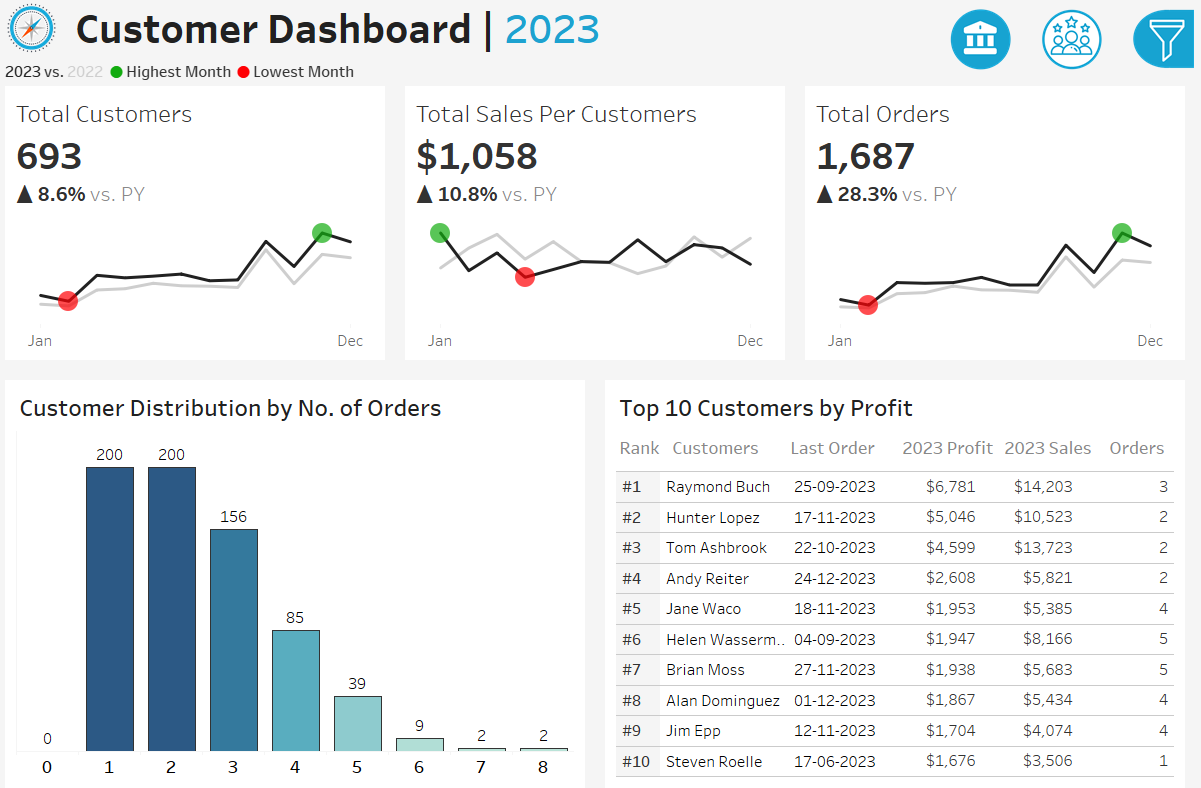

The dashboard page shown, as its layout file describes it:
{"tool":"tableau","page":{"name":"Customer Dashboard","canvas":[1200,800],"ordinal":0},"visuals":[{"type":"image","param":"Image/Icon - Logo.png","box":[0,0,73,59]},{"type":"text","box":[73,0,820,59]},{"type":"dashboard-object","box":[940,6,91,70]},{"type":"dashboard-object","box":[1031,6,91,70]},{"type":"blank","box":[952,10,237,86]},{"type":"worksheet","title":"Legend KPI","mark":"Automatic","box":[0,59,1200,29]},{"type":"worksheet","title":"KPI Customers","mark":"Automatic","rows":["Min/Max Quantity (copy)_3221481164588691468"],"cols":["Order Date"],"box":[0,88,400,284]},{"type":"worksheet","title":"KPI Sales Per Customers","mark":"Automatic","rows":["Min/Max Quantity (copy)_3221481164537155591"],"cols":["Order Date"],"box":[400,88,400,284]},{"type":"worksheet","title":"KPI Orders","mark":"Automatic","rows":["Min/Max Sales (copy)_3221481164601258003"],"cols":["Order Date"],"box":[800,88,400,284]},{"type":"text","box":[952,96,237,37]},{"type":"parameter","param":"[Parameters].[Parameter 1]","box":[952,133,237,55]},{"type":"text","box":[952,188,237,32]},{"type":"filter","title":"KPI Customers","param":"[federated.1kpxa041aiai2y1cl4pui1t4eju9].[none:Category:nk]","box":[952,220,237,57]},{"type":"filter","title":"KPI Customers","param":"[federated.1kpxa041aiai2y1cl4pui1t4eju9].[none:Sub-Category:nk]","box":[952,277,237,57]},{"type":"blank","box":[952,334,237,60]},{"type":"text","box":[17,389,566,40]},{"type":"text","box":[617,389,566,40]},{"type":"text","box":[952,394,237,32]},{"type":"filter","title":"KPI Customers","param":"[federated.1kpxa041aiai2y1cl4pui1t4eju9].[none:Region:nk]","box":[952,426,237,57]},{"type":"worksheet","title":"Customer Distribution","mark":"Bar","rows":["CY Sales (copy)_3221481164532666369"],"cols":["Calculation_998110323739992064"],"box":[17,429,566,354]},{"type":"text","box":[617,429,53,40]},{"type":"text","box":[670,429,118,40]},{"type":"text","box":[788,429,112,40]},{"type":"text","box":[900,429,102,40]},{"type":"text","box":[1002,429,105,40]},{"type":"text","box":[1107,429,76,40]},{"type":"worksheet","title":"Top Customers","mark":"Automatic","rows":["Calculation_782500491678904334","Customer Name","Order Date"],"box":[617,469,566,314]},{"type":"filter","title":"KPI Customers","param":"[federated.1kpxa041aiai2y1cl4pui1t4eju9].[none:State:nk]","box":[952,483,237,57]},{"type":"filter","title":"KPI Customers","param":"[federated.1kpxa041aiai2y1cl4pui1t4eju9].[none:City:nk]","box":[952,540,237,57]}]}

Visuals, with their boxes in screenshot pixels (x1, y1, x2, y2), scaled from the page's 1200x800 canvas onto the 1201x788 screenshot:
image: 0/0/73/58
text: 73/0/894/58
dashboard-object: 941/6/1032/75
dashboard-object: 1032/6/1123/75
blank: 953/10/1190/95
"Legend KPI" worksheet: 0/58/1200/87
"KPI Customers" worksheet: 0/87/400/366
"KPI Sales Per Customers" worksheet: 400/87/801/366
"KPI Orders" worksheet: 801/87/1200/366
text: 953/95/1190/131
parameter: 953/131/1190/185
text: 953/185/1190/217
"KPI Customers" filter: 953/217/1190/273
"KPI Customers" filter: 953/273/1190/329
blank: 953/329/1190/388
text: 17/383/583/423
text: 618/383/1184/423
text: 953/388/1190/420
"KPI Customers" filter: 953/420/1190/476
"Customer Distribution" worksheet (Bar marks): 17/423/583/771
text: 618/423/671/462
text: 671/423/789/462
text: 789/423/901/462
text: 901/423/1003/462
text: 1003/423/1108/462
text: 1108/423/1184/462
"Top Customers" worksheet: 618/462/1184/771
"KPI Customers" filter: 953/476/1190/532
"KPI Customers" filter: 953/532/1190/588
